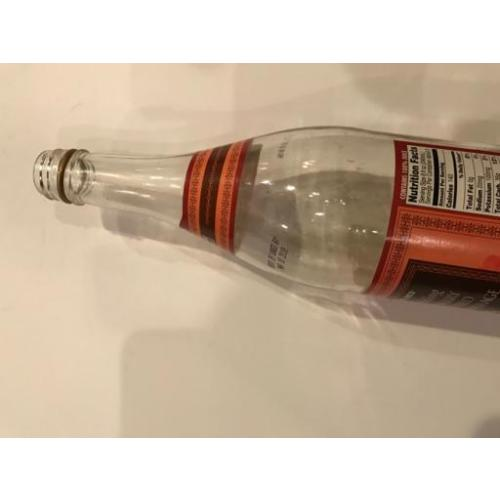glass: (36, 128, 500, 314)
